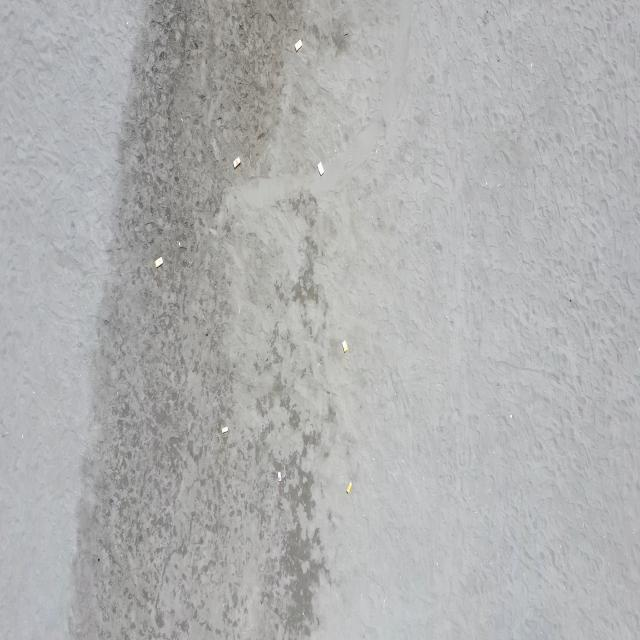retort-pouch: (316, 158, 326, 178), (232, 155, 242, 171), (341, 338, 350, 354), (294, 38, 303, 52), (154, 256, 164, 268), (345, 481, 353, 496), (220, 426, 229, 435), (278, 469, 282, 484)
